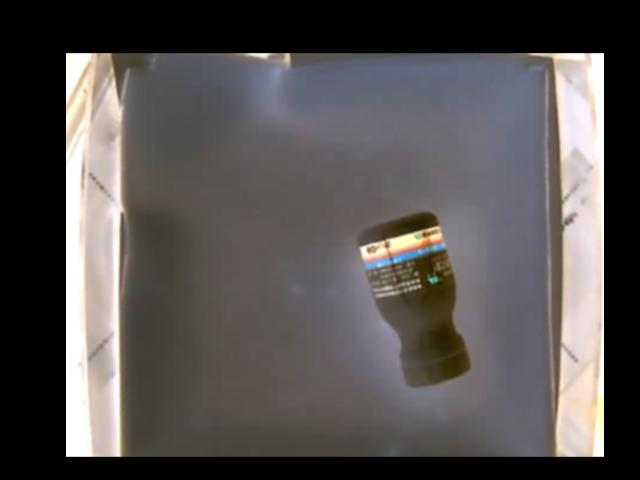Bottle: (358, 212, 470, 385)
